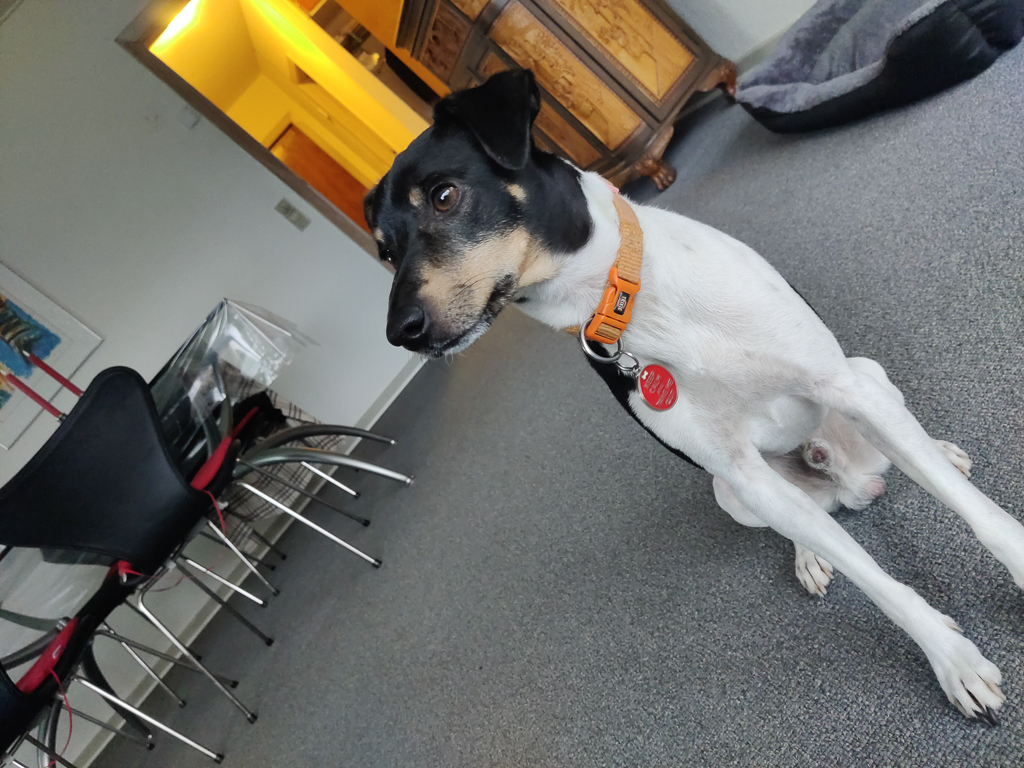Dog: (342, 45, 1024, 738)
